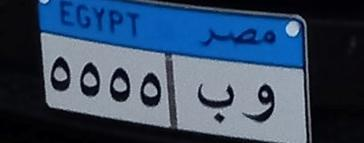5: (132, 64, 168, 120), (96, 59, 135, 107), (75, 52, 106, 101), (44, 50, 74, 93)
ب: (197, 77, 240, 128)
و: (240, 77, 280, 127)
